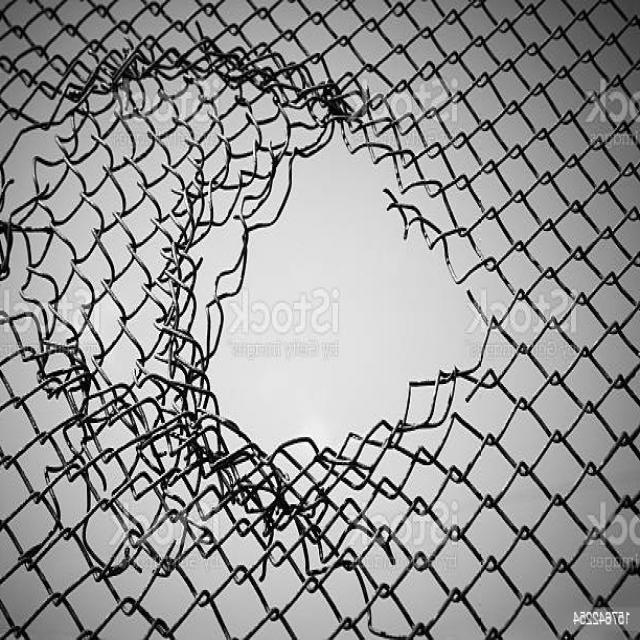fence line: (186, 119, 482, 493)
